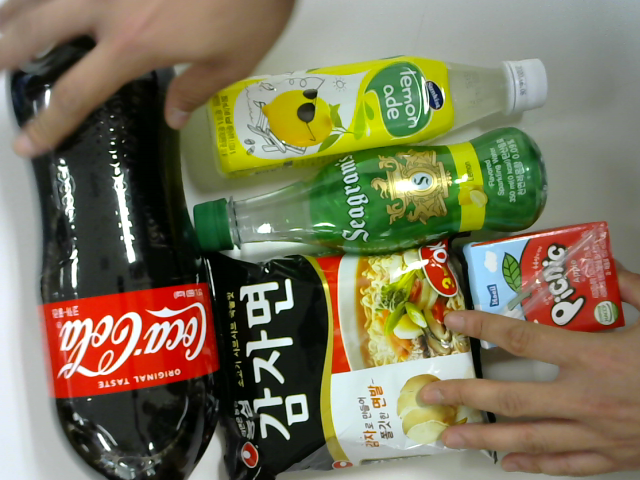Coca_Cola_1.5L: (7, 30, 220, 480)
Picnic_Apple: (463, 220, 623, 350)
Potato: (205, 246, 503, 474)
Seagram_Lemon_Carbonated_Water: (187, 136, 547, 246)
Sunkist_Lemonaid_Pet: (209, 52, 551, 170)
